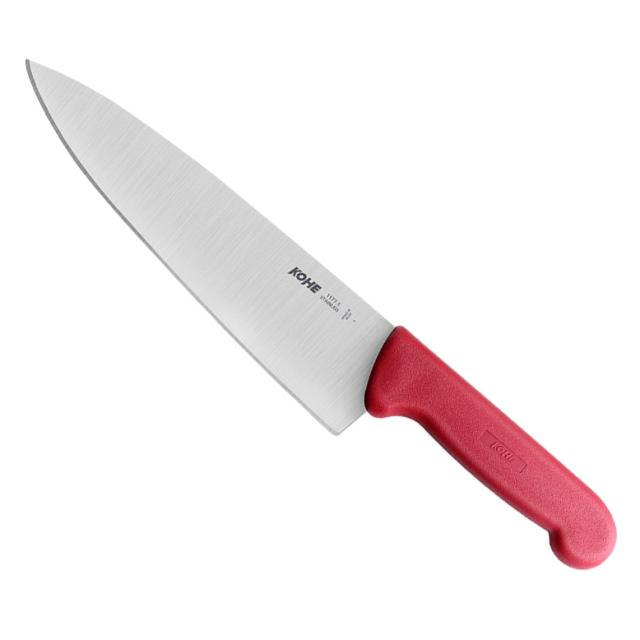Weapon: (26, 61, 614, 568)
